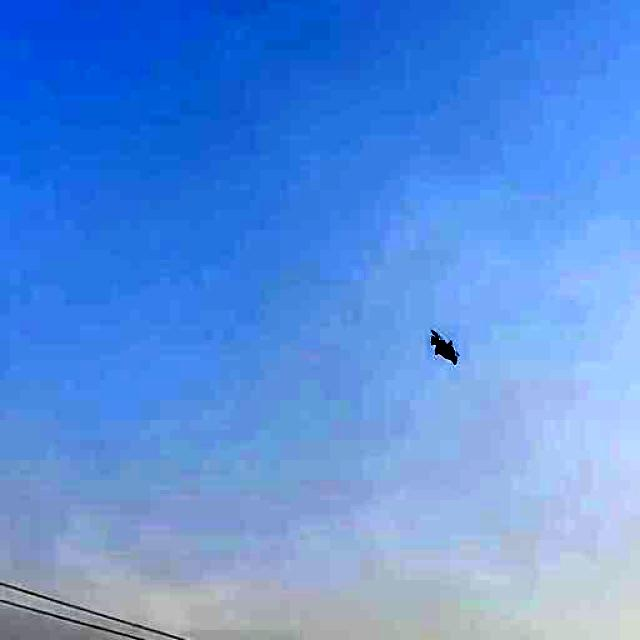bird: (425, 300, 464, 381)
